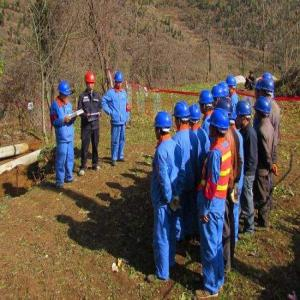blue: (208, 110, 230, 141), (154, 112, 173, 141), (174, 100, 191, 128), (235, 101, 252, 129), (255, 77, 275, 100), (255, 97, 272, 121), (199, 91, 214, 115), (188, 104, 202, 129), (58, 81, 71, 103), (225, 75, 237, 95), (212, 85, 224, 103), (115, 71, 125, 90)
red: (84, 70, 98, 93)
